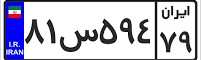character: (56, 22, 100, 55), (24, 15, 45, 50), (99, 16, 119, 46), (135, 13, 152, 48), (119, 13, 136, 46), (43, 15, 59, 49), (176, 26, 193, 57), (159, 28, 177, 56)
